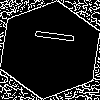I: (25, 25, 75, 46)
